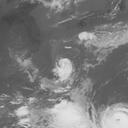cyclone: (52, 56, 78, 85), (98, 102, 126, 127)
